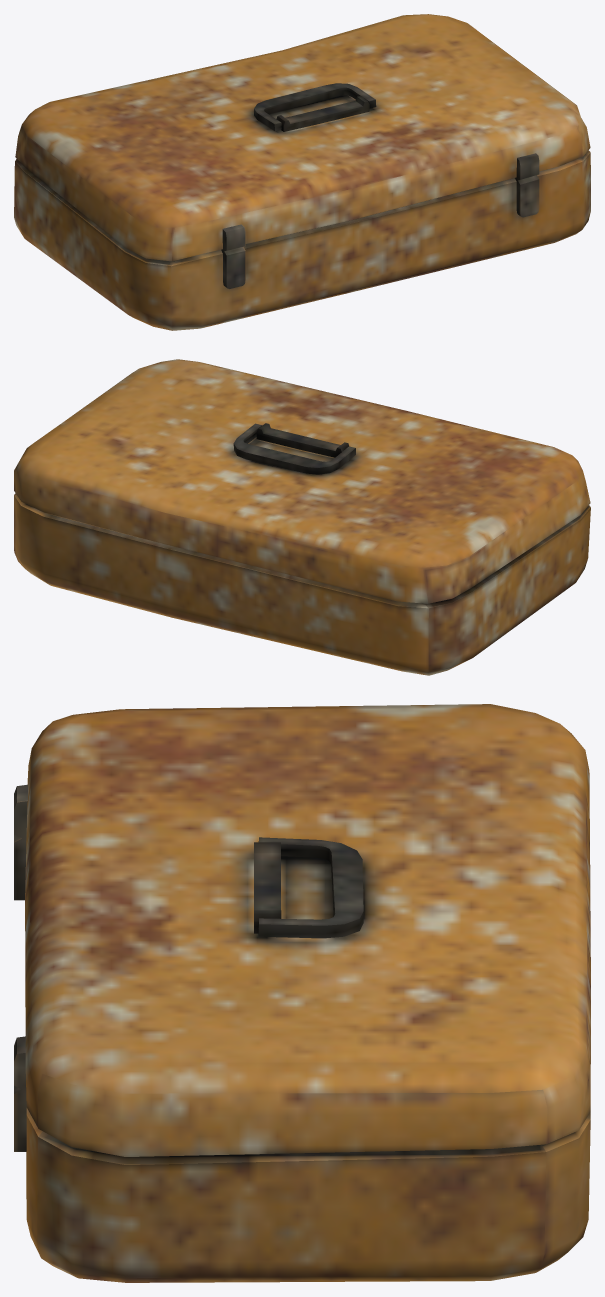
Rendered from MetalBox_T02.FBX.
3 renders of one model, top to bottom at view 1: azimuth 30°, elevation 25°; view 2: azimuth 150°, elevation 25°; view 3: azimuth 270°, elevation 25°, orthographic. The views are drawn at different scales.
Parts seen in each view (by area): view 1: MetalBox_T02; view 2: MetalBox_T02; view 3: MetalBox_T02.
Boxes of the visible parts, x1,y1,x2,y2 form: MetalBox_T02: [14, 14, 590, 330]; MetalBox_T02: [14, 359, 590, 675]; MetalBox_T02: [14, 704, 590, 1282].
Bounding box in the file's own units: 53.83 × 14.83 × 33.55.
